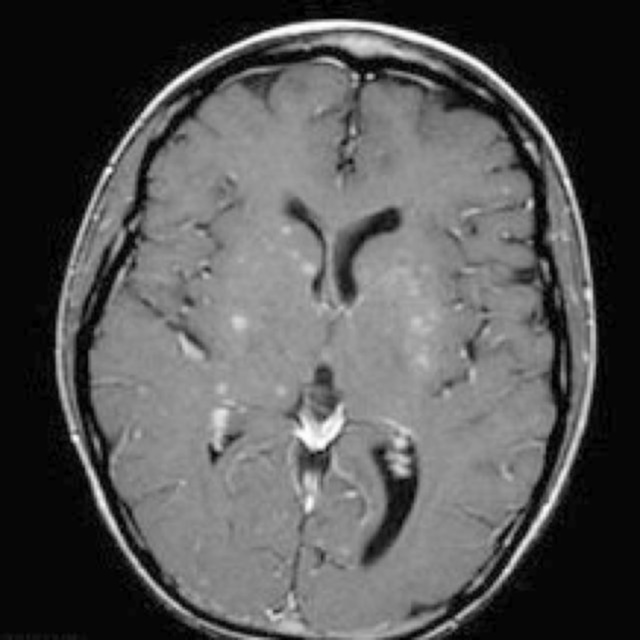glioma tumor: (156, 88, 470, 602)
